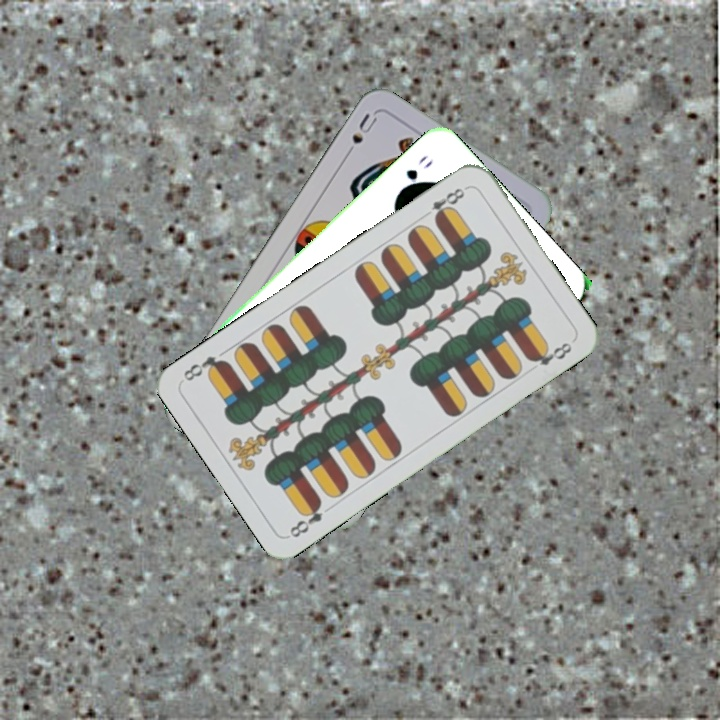E8: (418, 182, 471, 224), (285, 496, 326, 541)
GO: (395, 151, 436, 196)
SU: (339, 109, 380, 162)
